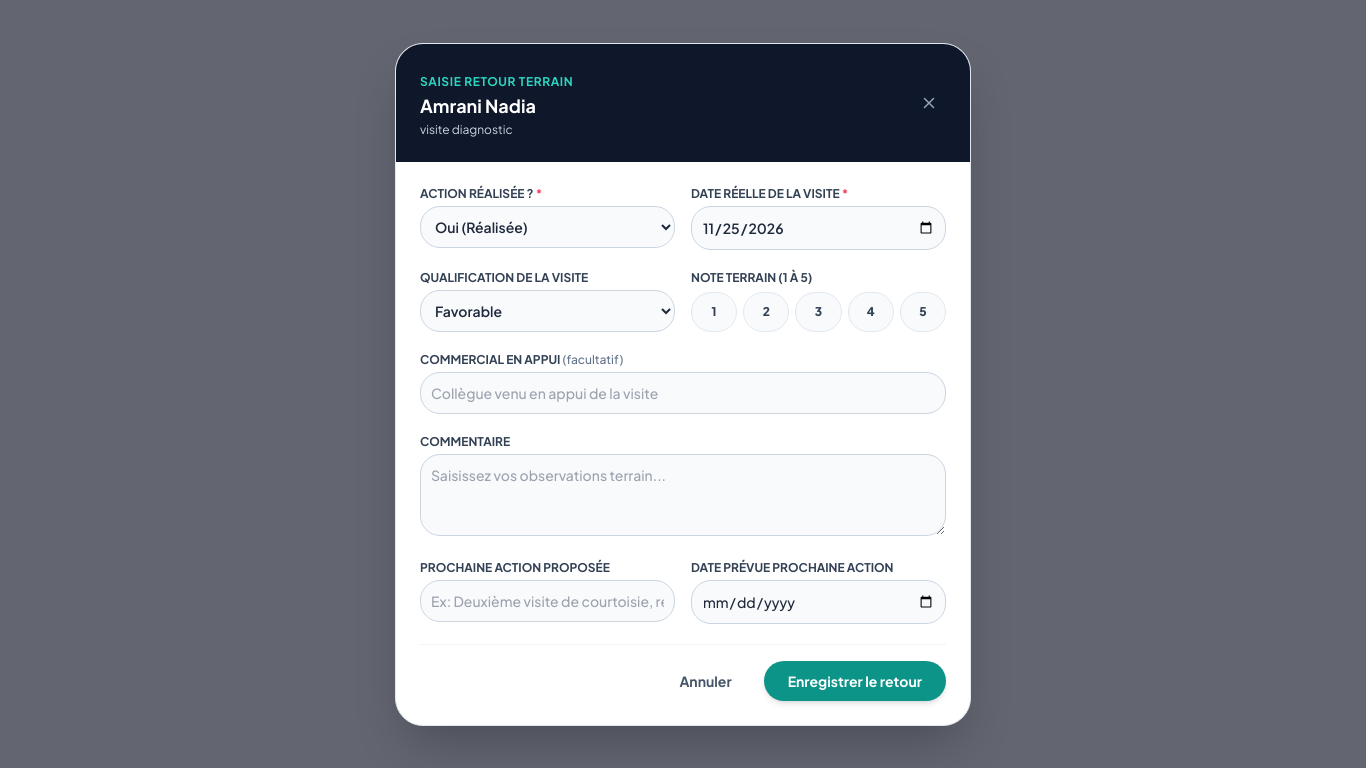
it: ModalSaisieRetour conditional requirements › requires a comment for a complaint
Step 1. Select "Réclamation" in the dropdown below "Qualification de la visite" → (548, 310), box [420,290,675,332]
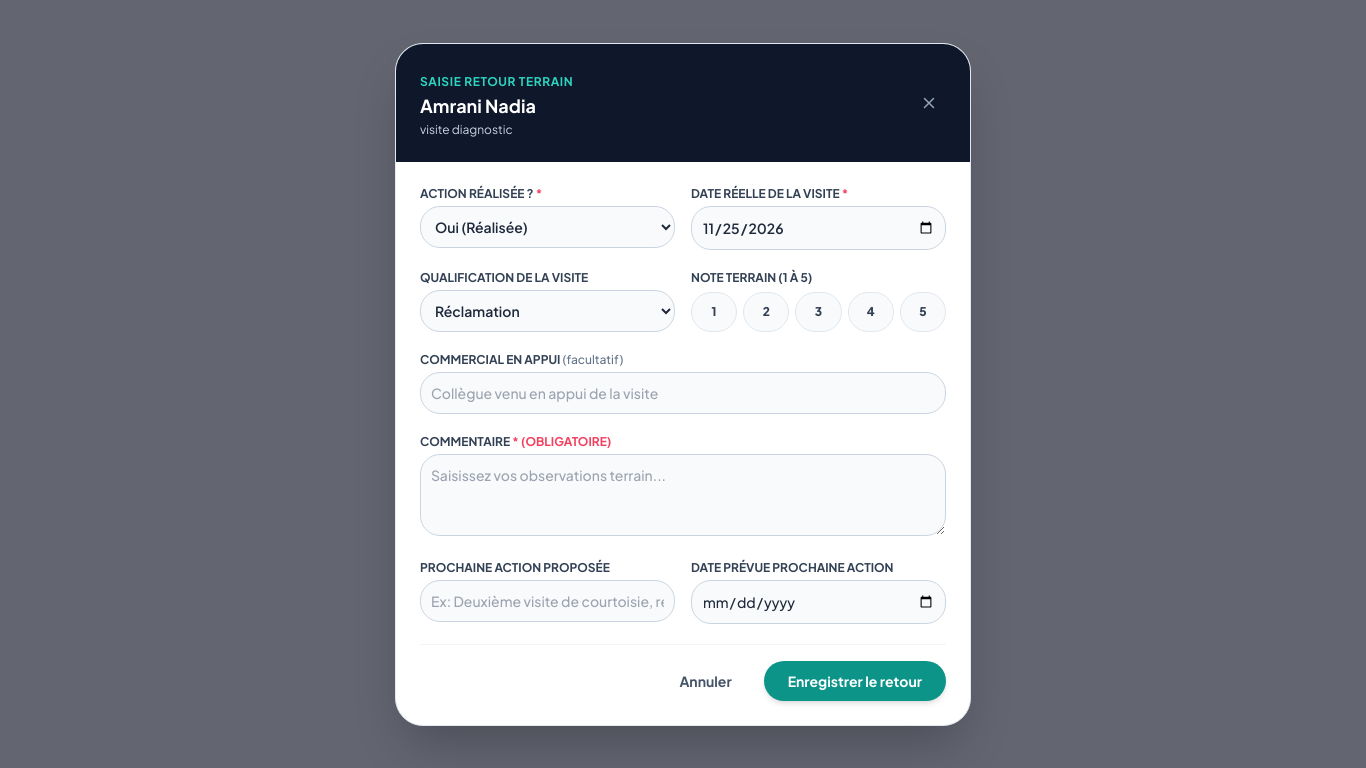
Step 2. Click the button "Enregistrer le retour" → (855, 680), box [764,660,946,700]
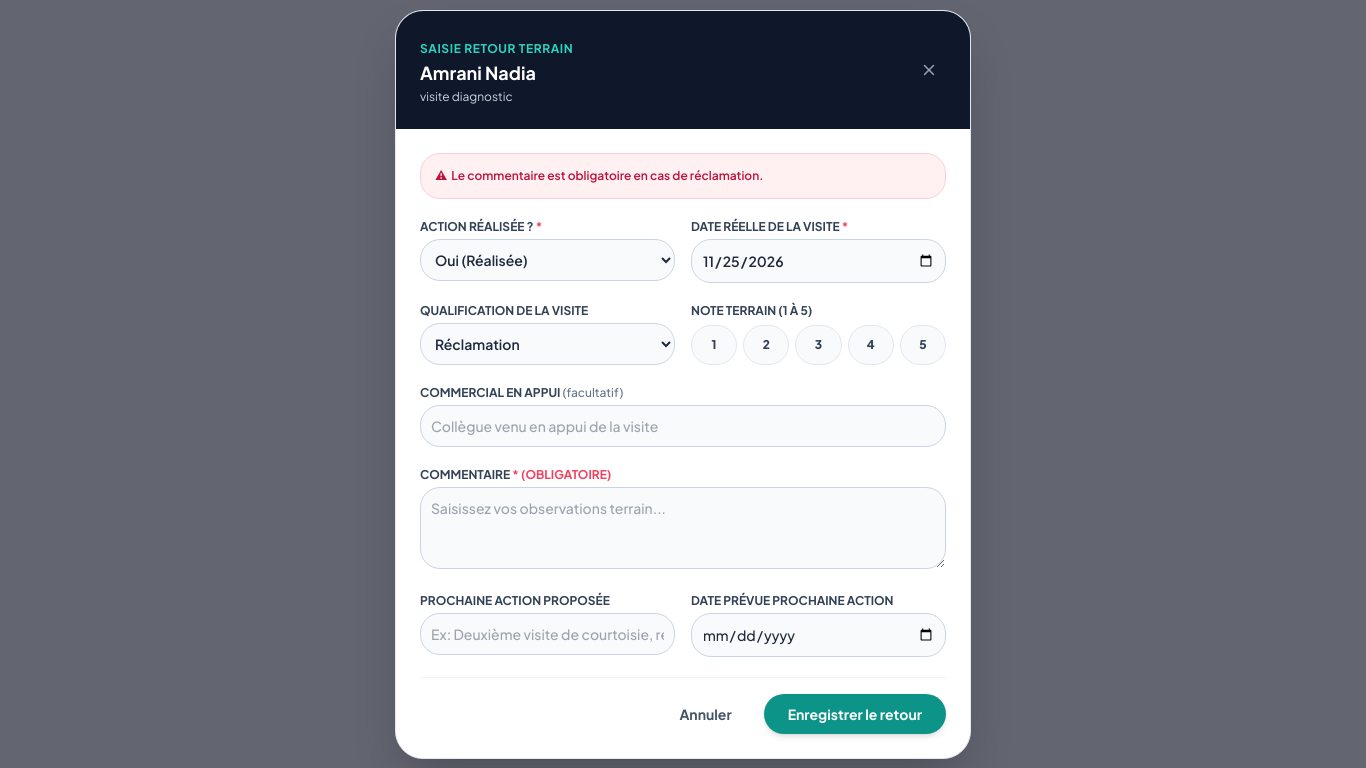
Expected: the text "Le commentaire est obligatoire en cas de réclamation." is shown, [451,168,763,182]
